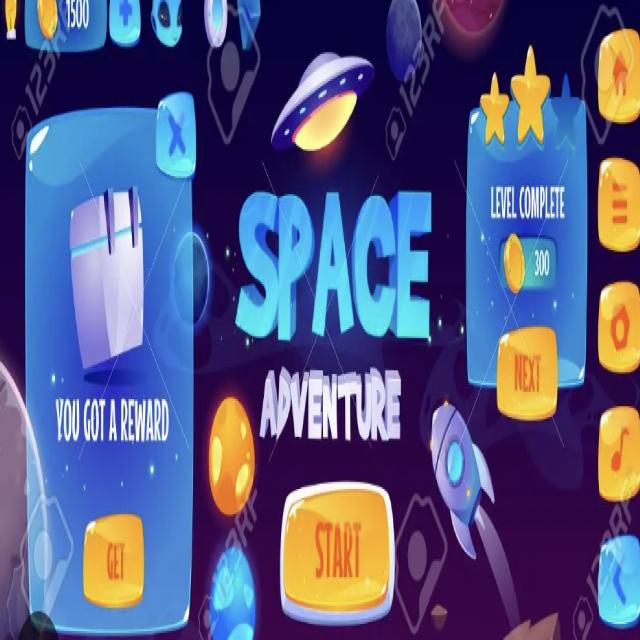Start-button: (284, 492, 393, 618)
